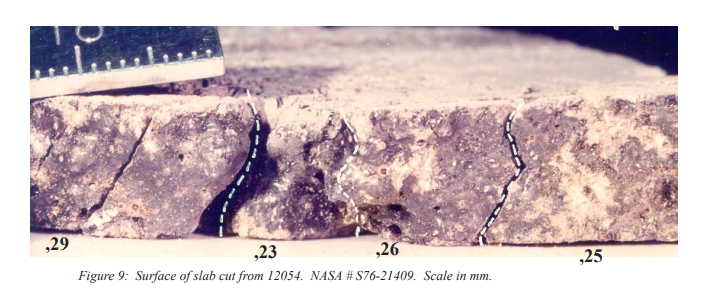Basalt: (300, 36, 674, 241), (277, 106, 678, 239), (28, 100, 244, 233)
